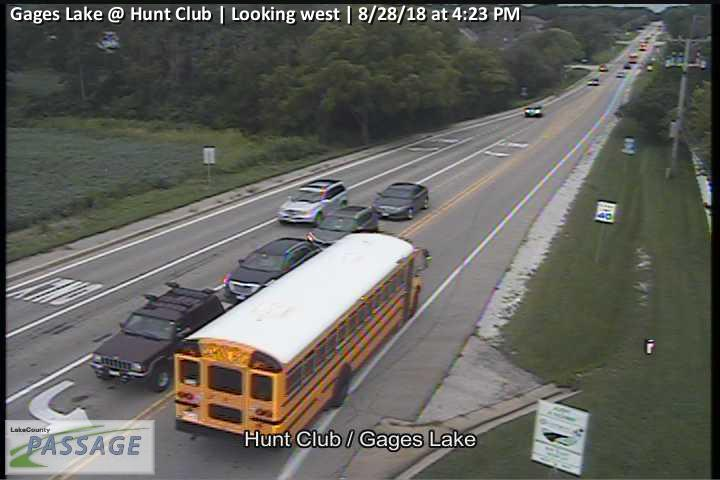Bus: (174, 229, 430, 444)
SUV: (88, 283, 226, 394), (224, 237, 323, 311), (277, 179, 348, 224), (306, 204, 378, 245)
Sedan: (371, 182, 428, 220), (524, 105, 542, 117)
